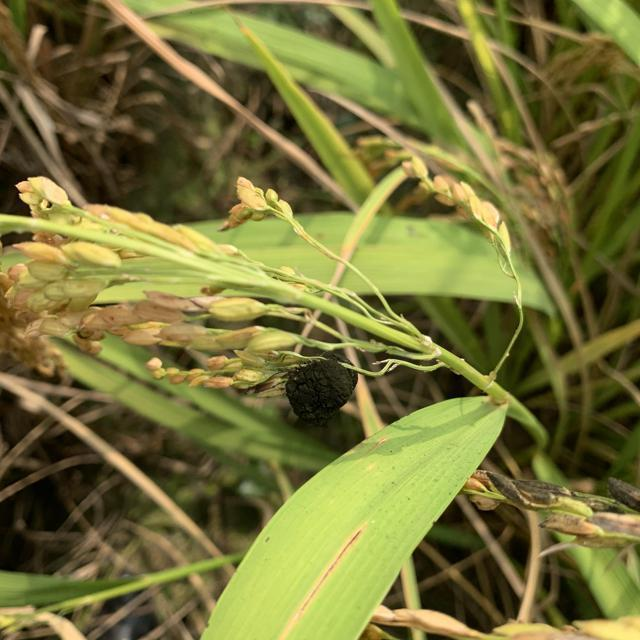Leaf_Scald: (280, 352, 362, 423)
